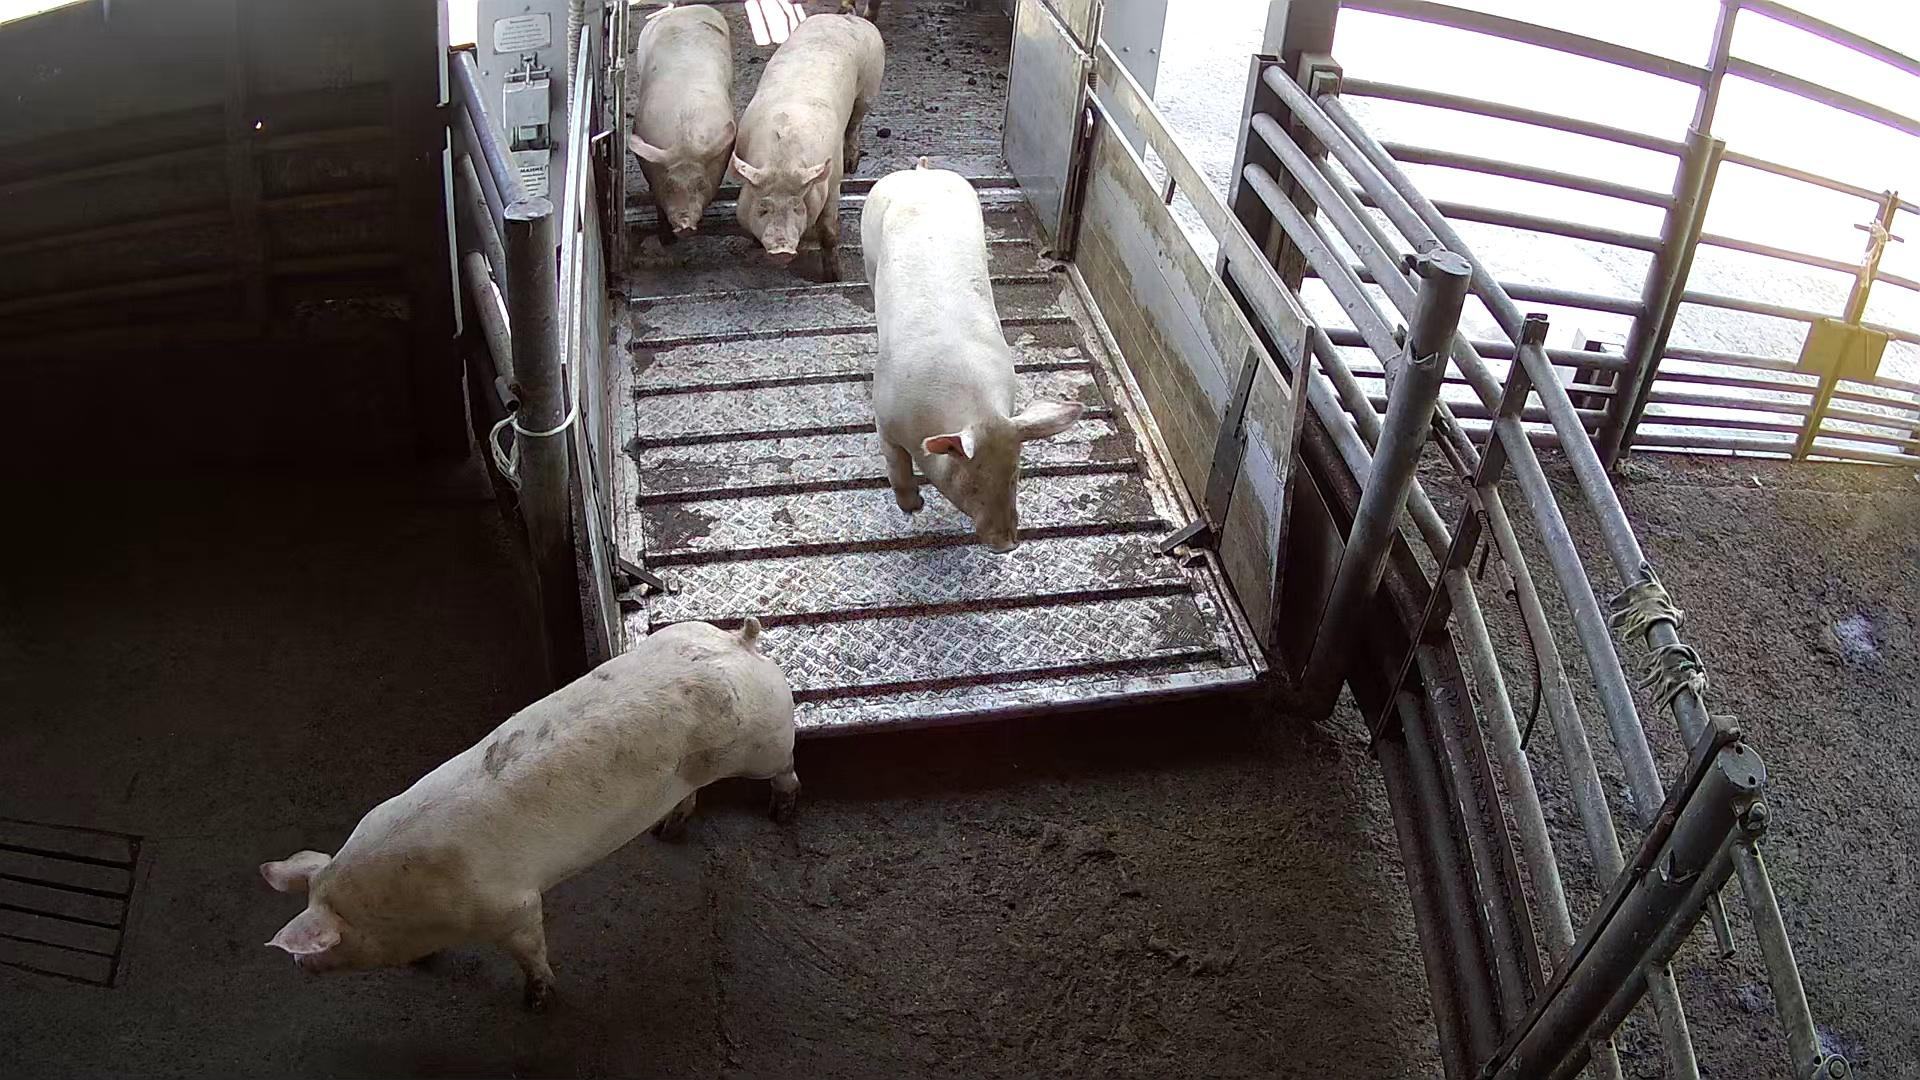Pig: (258, 618, 798, 1009), (862, 157, 1085, 551), (731, 11, 885, 278), (630, 3, 737, 240)
